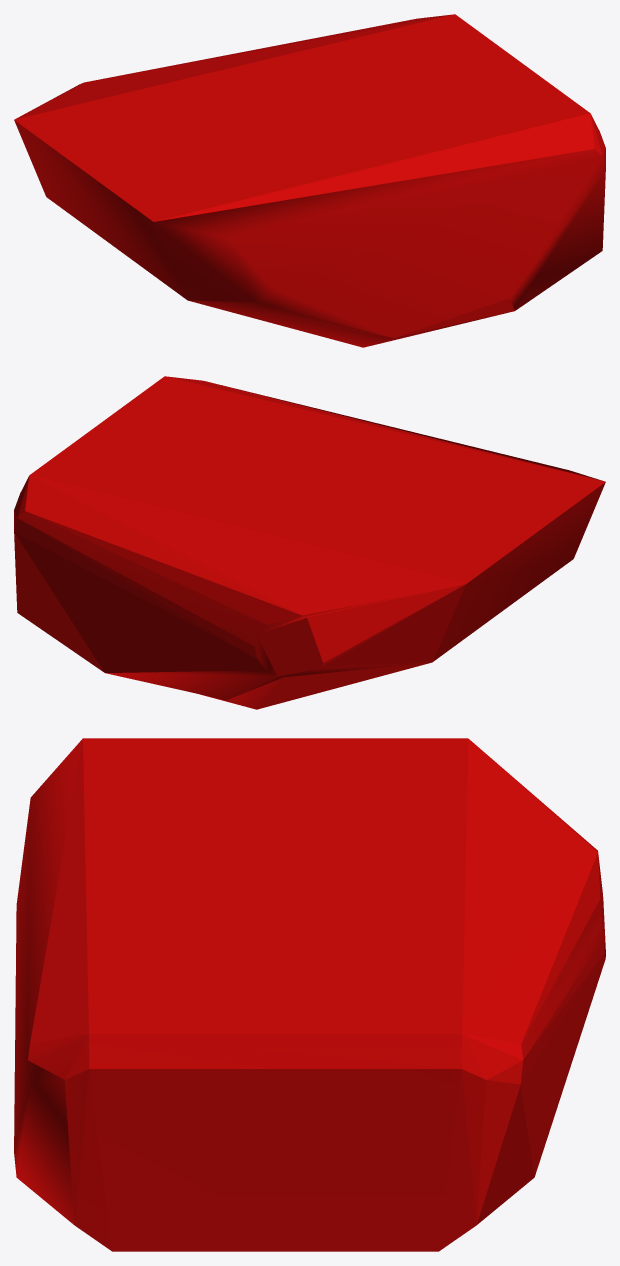
The model's file is speaker_collision.dae.
3 views of the same model, one above another, from view 1: azimuth 30°, elevation 25°; view 2: azimuth 150°, elevation 25°; view 3: azimuth 270°, elevation 25° (orthographic). The views are drawn at different scales.
Parts seen in each view (by area): view 1: speaker_collision; view 2: speaker_collision; view 3: speaker_collision.
Part boxes in pixels (box(x1,y1,x2,y2)): speaker_collision: box(14, 14, 605, 347); speaker_collision: box(14, 376, 605, 709); speaker_collision: box(14, 738, 605, 1251).
Size of the model in its own units: 0.0598 by 0.0495 by 0.0221.
